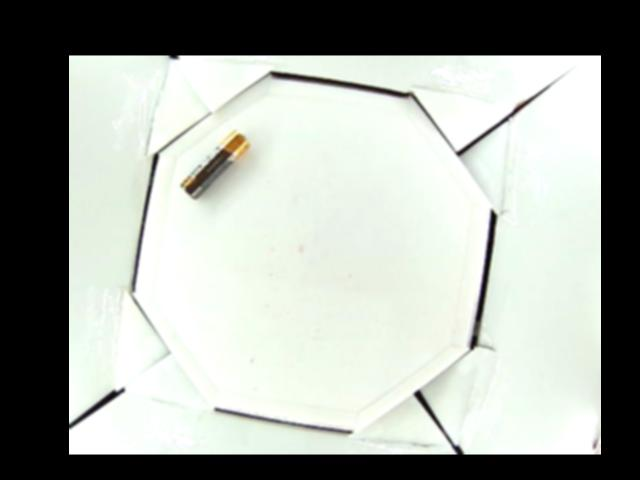Battery: (179, 127, 251, 198)
